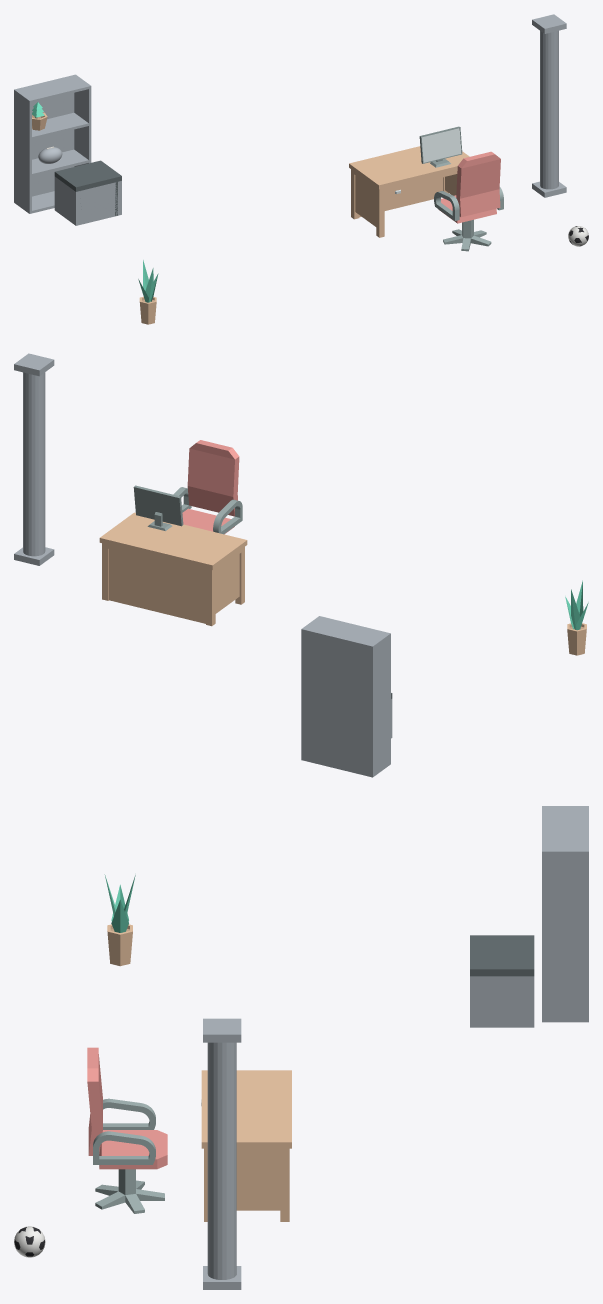
3 views of the same model, one above another, from view 1: azimuth 30°, elevation 25°; view 2: azimuth 150°, elevation 25°; view 3: azimuth 270°, elevation 25° (orthographic). The views are drawn at different scales.
Parts seen in each view (by area): view 1: desk_blue__desk(Clone), deskchair_black__chair, column_cyan__column_cyan shaft, crate_red__crate_red shell, shelf_orange__shelf_orange side_l, shelf_orange__shelf_orange back, monitor_gray__computerScreen(Clone), crate_red__crate_red lid, shelf_orange__shelf_orange side_r, shelf_orange__shelf_orange board3, shelf_orange__shelf_orange board2, deskchair_black__chairDesk(Clone) (+2 smaller); view 2: desk_blue__desk(Clone), shelf_orange__shelf_orange back, deskchair_black__chair, column_cyan__column_cyan shaft, shelf_orange__shelf_orange side_l, monitor_gray__computerScreen(Clone), shelf_orange__shelf_orange board3, column_cyan__column_cyan capital, shelf_orange__shelf_orange side_r; view 3: desk_blue__desk(Clone), shelf_orange__shelf_orange side_r, column_cyan__column_cyan shaft, deskchair_black__chair, crate_red__crate_red shell, crate_red__crate_red lid, shelf_orange__shelf_orange board3, deskchair_black__chairDesk(Clone), column_cyan__column_cyan capital, plant_pink__pottedPlant(Clone), soccer_white__soccer_white, plant_pink__plant.
Part boxes in pixels (left/top/right/bottom): desk_blue__desk(Clone): left=349, top=146, right=469, bottom=237; deskchair_black__chair: left=434, top=151, right=503, bottom=223; column_cyan__column_cyan shaft: left=540, top=30, right=558, bottom=189; crate_red__crate_red shell: left=54, top=176, right=121, bottom=225; shelf_orange__shelf_orange side_l: left=14, top=89, right=31, bottom=213; shelf_orange__shelf_orange back: left=17, top=75, right=74, bottom=196; monitor_gray__computerScreen(Clone): left=419, top=126, right=462, bottom=167; crate_red__crate_red lid: left=54, top=160, right=121, bottom=191; shelf_orange__shelf_orange side_r: left=73, top=74, right=91, bottom=166; shelf_orange__shelf_orange board3: left=18, top=76, right=88, bottom=102; shelf_orange__shelf_orange board2: left=32, top=112, right=88, bottom=139; deskchair_black__chairDesk(Clone): left=443, top=219, right=491, bottom=251; desk_blue__desk(Clone): left=99, top=512, right=247, bottom=626; shelf_orange__shelf_orange back: left=304, top=629, right=370, bottom=776; deskchair_black__chair: left=173, top=440, right=242, bottom=534; column_cyan__column_cyan shaft: left=23, top=372, right=45, bottom=556; shelf_orange__shelf_orange side_l: left=370, top=632, right=390, bottom=777; monitor_gray__computerScreen(Clone): left=133, top=485, right=183, bottom=530; shelf_orange__shelf_orange board3: left=306, top=616, right=387, bottom=644; column_cyan__column_cyan capital: left=14, top=353, right=54, bottom=376; shelf_orange__shelf_orange side_r: left=301, top=616, right=321, bottom=760; desk_blue__desk(Clone): left=201, top=1070, right=291, bottom=1221; shelf_orange__shelf_orange side_r: left=542, top=849, right=588, bottom=1022; column_cyan__column_cyan shaft: left=207, top=1042, right=236, bottom=1279; deskchair_black__chair: left=87, top=1047, right=167, bottom=1169; crate_red__crate_red shell: left=470, top=976, right=534, bottom=1027; crate_red__crate_red lid: left=470, top=935, right=534, bottom=976; shelf_orange__shelf_orange board3: left=542, top=808, right=585, bottom=849; deskchair_black__chairDesk(Clone): left=95, top=1169, right=164, bottom=1213; column_cyan__column_cyan capital: left=203, top=1018, right=241, bottom=1042; plant_pink__pottedPlant(Clone): left=107, top=924, right=132, bottom=966; soccer_white__soccer_white: left=14, top=1226, right=45, bottom=1257; plant_pink__plant: left=104, top=874, right=135, bottom=932.
Size of the model in its own units: 5.54 by 1.96 by 4.
